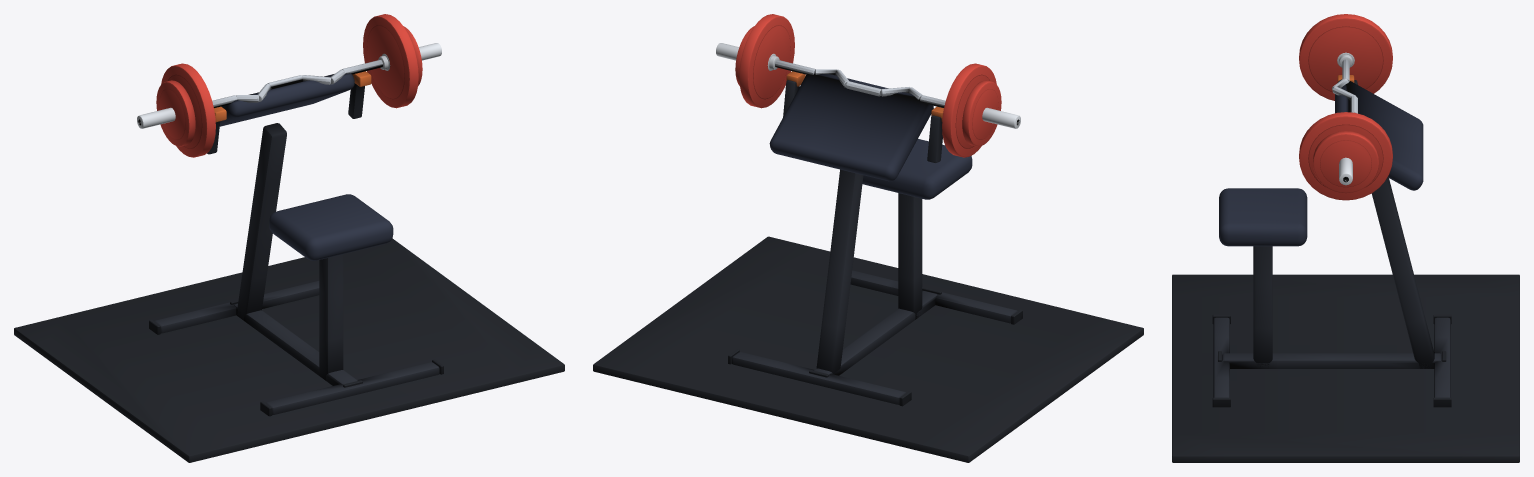
Rendered from m_preacher.glb.
3 views of the same model, side by side, from view 1: azimuth 30°, elevation 25°; view 2: azimuth 150°, elevation 25°; view 3: azimuth 270°, elevation 25° (orthographic).
Visible parts, largest first — view 1: static, o17; view 2: static, o17; view 3: static, o17.
Boxes of the visible parts, x1,y1,x2,y2 form: static: [14, 71, 564, 462]; o17: [137, 14, 441, 157]; static: [593, 71, 1143, 462]; o17: [716, 14, 1020, 157]; static: [1172, 75, 1519, 462]; o17: [1299, 14, 1392, 200].
Size of the model in its own units: 1.56 by 1.24 by 1.26.
